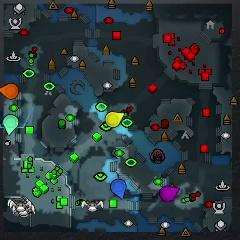p1: (111, 179, 126, 199)
p2: (4, 115, 19, 134)
p3: (160, 185, 180, 202)
p4: (105, 111, 124, 128)
p5: (0, 83, 20, 100)
